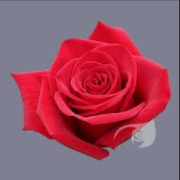RedRose: (13, 24, 171, 160)
